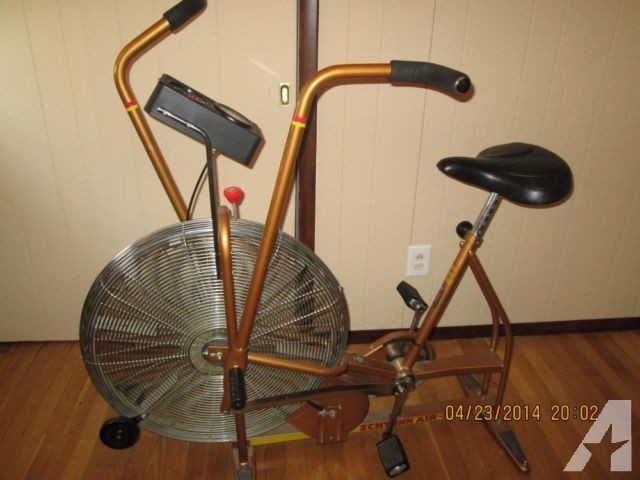gym_bike: (59, 7, 546, 473)
